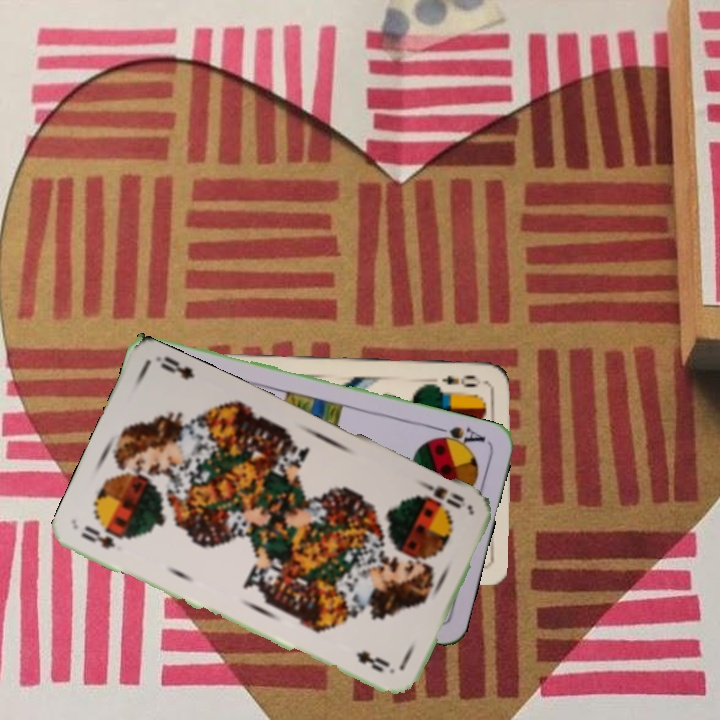EO: (437, 371, 480, 390)
SA: (429, 422, 488, 451)
SO: (413, 477, 467, 511), (77, 521, 118, 552)
